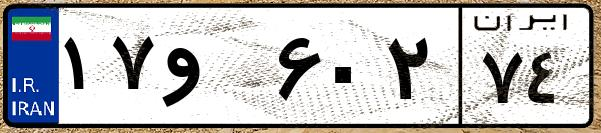0: (330, 28, 385, 110)
1: (57, 26, 110, 100)
2: (385, 28, 445, 110)
4: (525, 38, 570, 115)
6: (270, 28, 330, 110)
7: (475, 38, 525, 113), (110, 28, 158, 98)
و: (158, 20, 270, 120)
